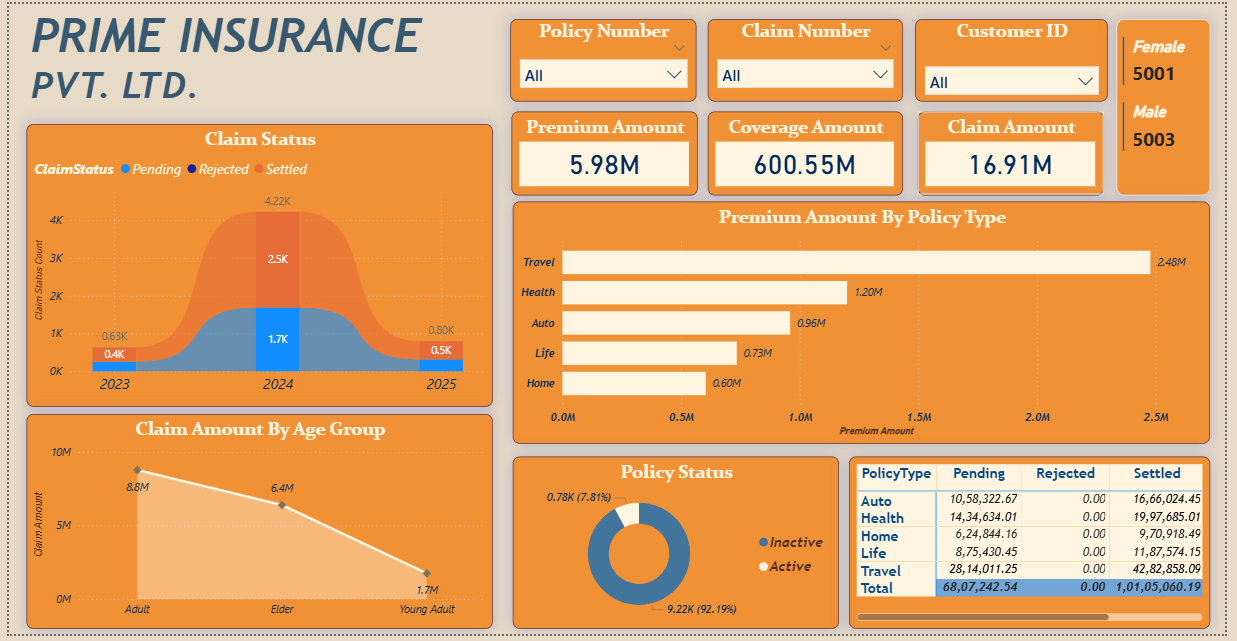

Layout of this report page (visuals, bound fields, positions):
{"tool":"powerbi","page":{"name":"Prime Insurance Data Insights","canvas":[1390,720],"ordinal":0},"visuals":[{"type":"slicer","title":"Policy Number","fields":{"Values":["InsuranceData.PolicyNumber"]},"box":[572.9,17.1,212.9,94.3],"z":0},{"type":"slicer","title":"Claim Number","fields":{"Values":["InsuranceData.ClaimNumber"]},"box":[798.6,17.1,222.9,94.3],"z":1000},{"type":"slicer","title":"Customer ID","fields":{"Values":["InsuranceData.CustomerID"]},"box":[1035.7,17.1,220,94.3],"z":2000},{"type":"textbox","box":[20,0,480,137.1],"z":3000},{"type":"cardVisual","title":"Premium Amount","fields":{"Data":["Sum(InsuranceData.PremiumAmount)"]},"box":[574.3,122.9,212.9,95.7],"z":4000},{"type":"cardVisual","title":"Coverage Amount","fields":{"Data":["Sum(InsuranceData.CoverageAmount)"]},"box":[798.6,122.9,222.9,95.7],"z":5000},{"type":"cardVisual","title":"Claim Amount","fields":{"Data":["Sum(InsuranceData.ClaimAmount)"]},"box":[1038.6,122.9,212.9,95.7],"z":6000},{"type":"multiRowCard","fields":{"Values":["InsuranceData.Gender","CountNonNull(InsuranceData.Gender)"]},"box":[1265.7,17.1,107.1,201.4],"z":7000},{"type":"ribbonChart","title":"Claim Status","fields":{"Category":["InsuranceData.ClaimDate.Variation.Date Hierarchy.Year"],"Y":["CountNonNull(InsuranceData.ClaimStatus)"],"Series":["InsuranceData.ClaimStatus"]},"box":[20,137.1,532.9,322.9],"z":8000},{"type":"barChart","title":"Premium Amount By Policy Type","fields":{"Category":["InsuranceData.PolicyType"],"Y":["Sum(InsuranceData.PremiumAmount)"]},"box":[575.7,225.7,797.1,277.1],"z":9000},{"type":"lineChart","title":"Claim Amount By Age Group","fields":{"Category":["InsuranceData.Age Group"],"Y":["Sum(InsuranceData.ClaimAmount)"]},"box":[20,468.6,532.9,245.7],"z":10000},{"type":"donutChart","title":"Policy Status","fields":{"Category":["InsuranceData.Policy Status"],"Y":["CountNonNull(InsuranceData.Policy Status)"]},"box":[575.7,517.1,372.9,197.1],"z":11000},{"type":"pivotTable","fields":{"Rows":["InsuranceData.PolicyType"],"Columns":["InsuranceData.ClaimStatus"],"Values":["Sum(InsuranceData.ClaimAmount)"]},"box":[960,517.1,412.9,197.1],"z":12000}]}

Visuals, with their boxes in screenshot pixels (x1, y1, x2, y2), scaled from the page's 1390x720 canvas onto the 1237x641 screenshot:
"Policy Number" slicer: 510,15,699,99
"Claim Number" slicer: 711,15,909,99
"Customer ID" slicer: 922,15,1117,99
textbox: 18,0,445,122
"Premium Amount" cardVisual: 511,109,701,195
"Coverage Amount" cardVisual: 711,109,909,195
"Claim Amount" cardVisual: 924,109,1114,195
multiRowCard - InsuranceData.Gender x CountNonNull(InsuranceData.Gender): 1126,15,1222,195
"Claim Status" ribbonChart: 18,122,492,410
"Premium Amount By Policy Type" barChart: 512,201,1222,448
"Claim Amount By Age Group" lineChart: 18,417,492,636
"Policy Status" donutChart: 512,460,844,636
pivotTable - InsuranceData.PolicyType x InsuranceData.ClaimStatus: 854,460,1222,636
